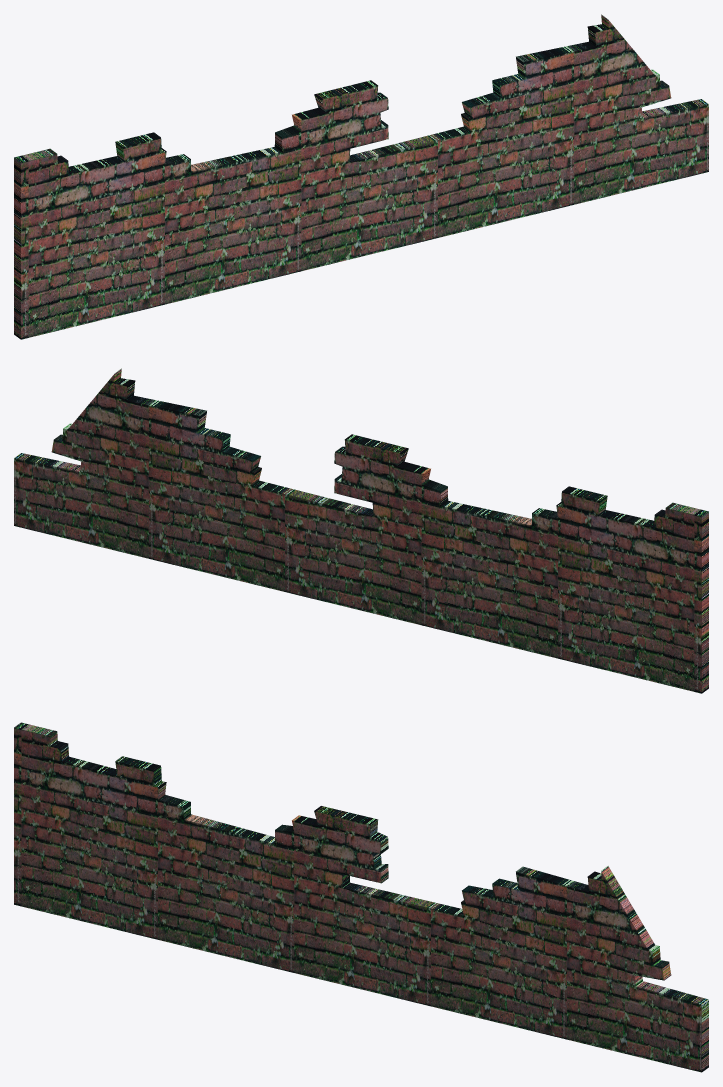
The model's file is ParedCompletaRota.obj.
3 views of the same model, one above another, from view 1: azimuth 30°, elevation 25°; view 2: azimuth 150°, elevation 25°; view 3: azimuth 330°, elevation 25° (orthographic).
Parts seen in each view (by area): view 1: Plane.001; view 2: Plane.001; view 3: Plane.001.
Part boxes in pixels (x1,y1,x2,y2): Plane.001: (14,14,708,339); Plane.001: (14,368,708,693); Plane.001: (14,722,708,1072).
Bounding box in the file's own units: 57.78 × 14.21 × 1.03.
1 material, 1 textured.
